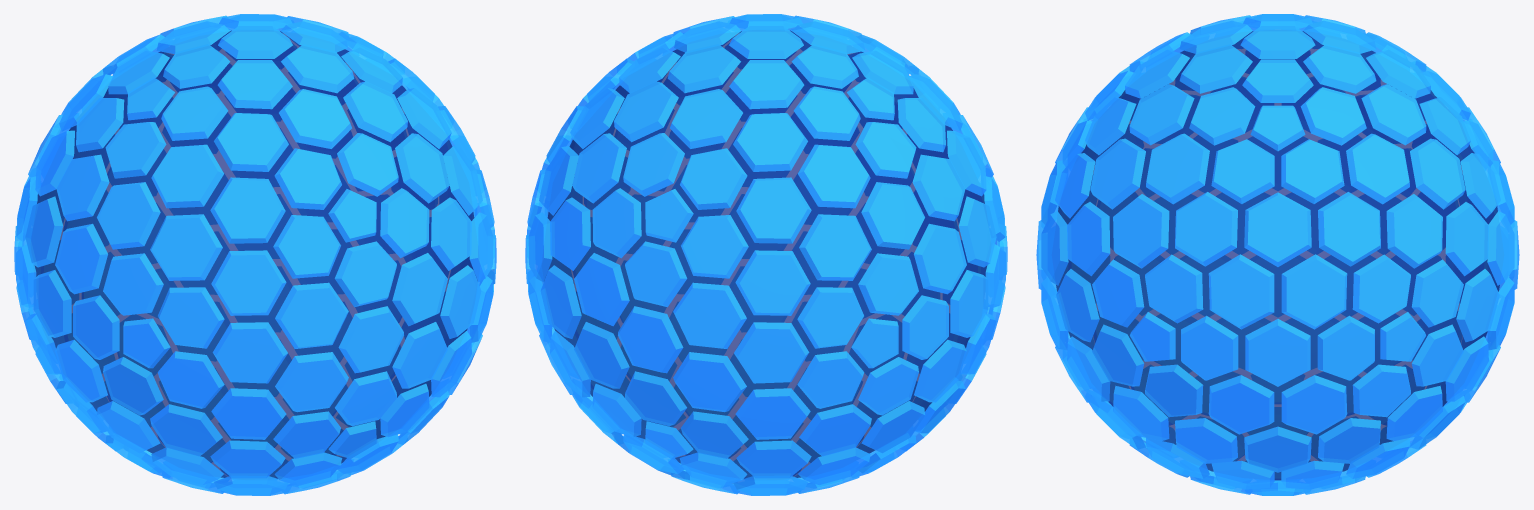
Rendered from escudo-hexagonal.fbx.
The picture shows the model from 3 angles, left to right: view 1: azimuth 30°, elevation 25°; view 2: azimuth 150°, elevation 25°; view 3: azimuth 270°, elevation 25°; orthographic projection.
Visible parts, largest first — view 1: Placas, Esfera; view 2: Placas, Esfera; view 3: Placas, Esfera.
Boxes of the visible parts, x1,y1,x2,y2 form: Placas: [14, 14, 496, 495]; Esfera: [34, 30, 477, 478]; Placas: [525, 14, 1007, 495]; Esfera: [544, 30, 987, 478]; Placas: [1036, 14, 1519, 495]; Esfera: [1056, 31, 1499, 480].
Bounding box in the file's own units: 2.06 × 2.06 × 2.06.
